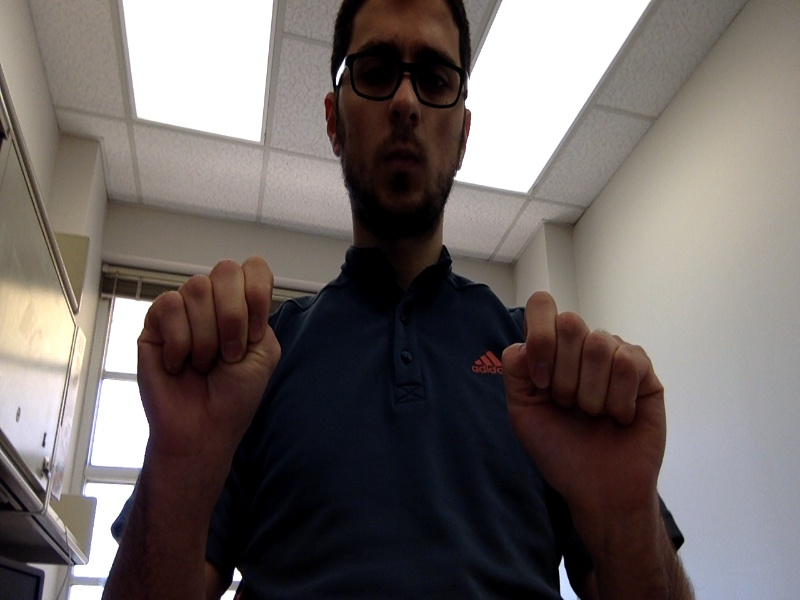0-hand: (502, 294, 667, 524), (137, 257, 280, 447)
